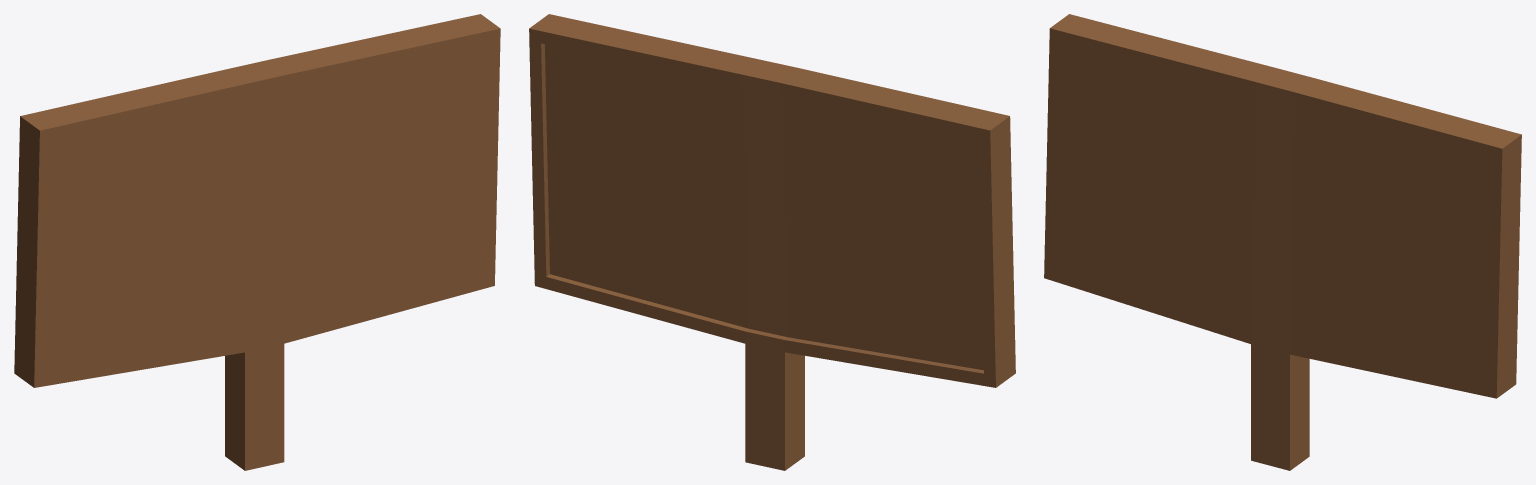
Rendered from Bord.fbx.
3 renders of one model, left to right at view 1: azimuth 30°, elevation 25°; view 2: azimuth 150°, elevation 25°; view 3: azimuth 330°, elevation 25°, orthographic.
Parts seen in each view (by area): view 1: Cube; view 2: Cube; view 3: Cube.
Boxes of the visible parts, <box> form: Cube: <box>14,14,500,470</box>; Cube: <box>529,14,1015,470</box>; Cube: <box>1044,14,1521,470</box>.
Size of the model in its own units: 325 by 260 by 24.12.
